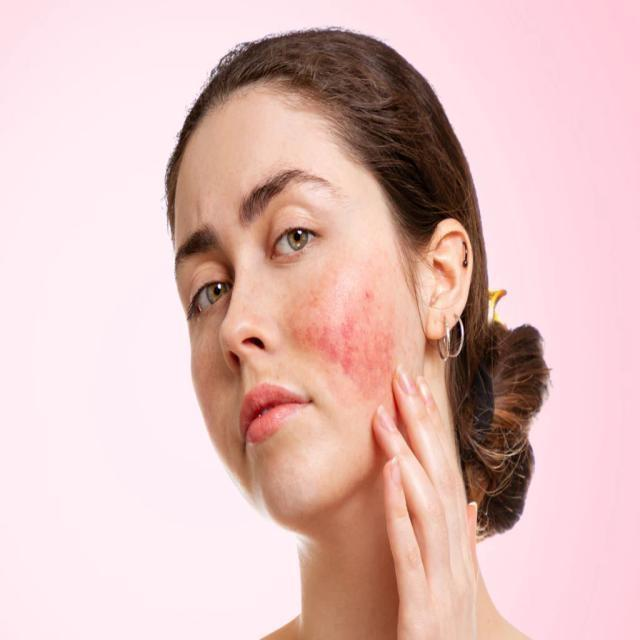Rosacea: (286, 281, 412, 397)
